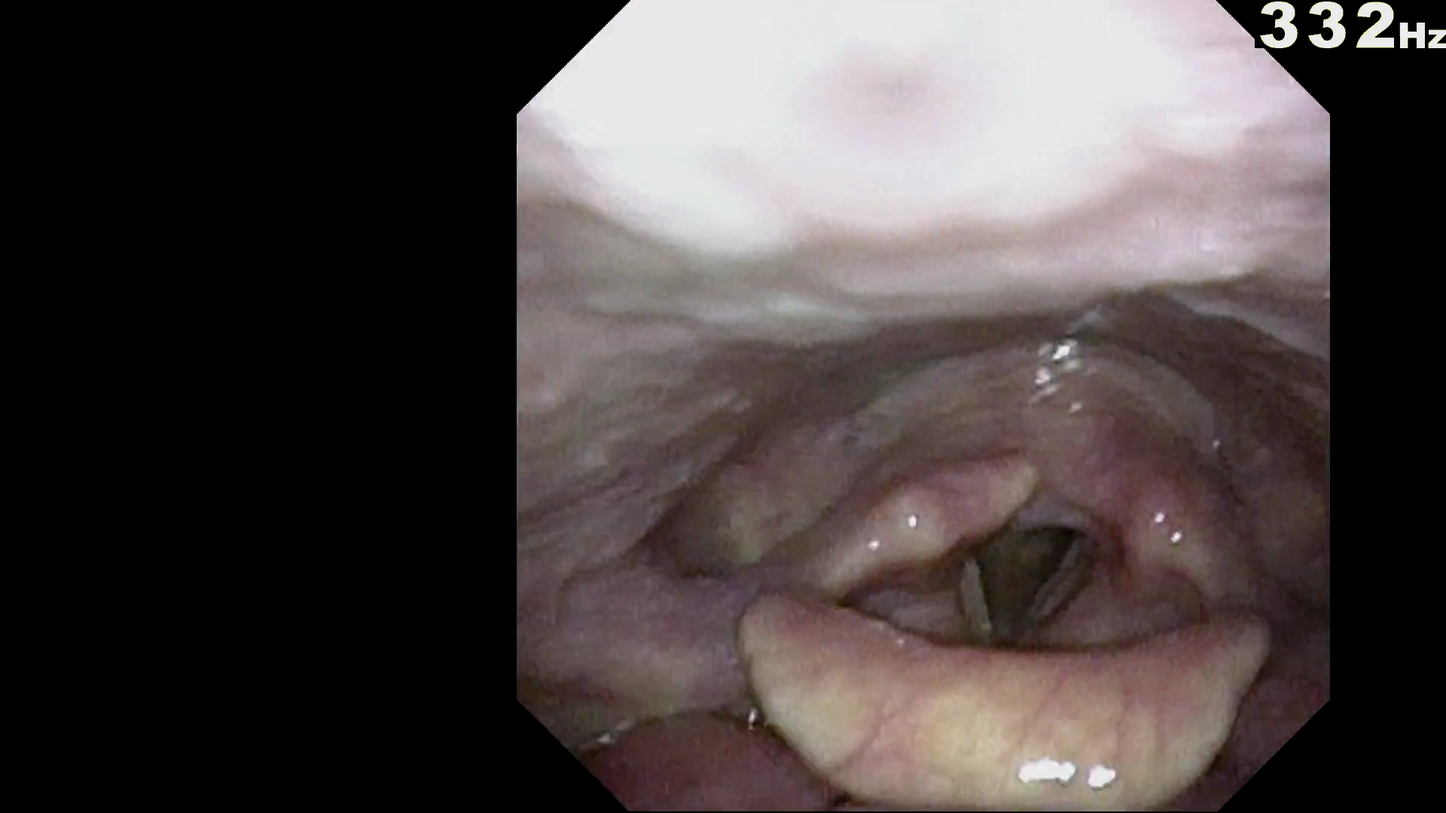epiglottis: (663, 579, 1204, 718)
trachea: (938, 501, 1093, 602)
